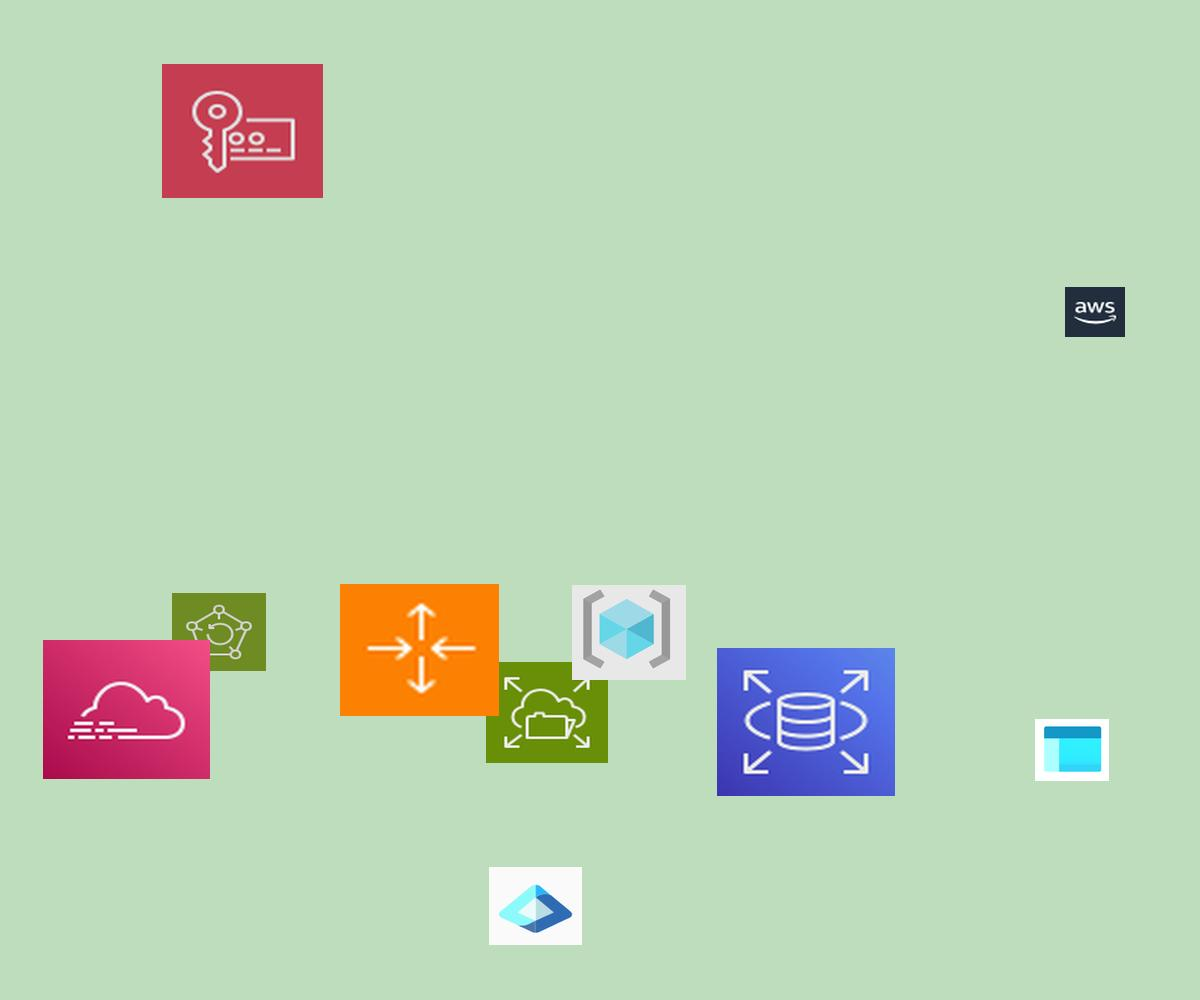AWS-Backup: (172, 593, 266, 671)
AWS-Cloud-logo: (1065, 287, 1125, 337)
AWS-CloudTrail: (43, 640, 210, 779)
AWS-EFS: (486, 662, 608, 763)
AWS-Key-Management-Service: (162, 64, 323, 198)
AWS-RDS: (717, 648, 895, 796)
AWS-Scaling-group: (340, 584, 499, 716)
Azure_management-portal: (1035, 719, 1109, 781)
Azure_microsoft_entra: (489, 867, 582, 945)
Azure_resource_group: (572, 585, 686, 680)
